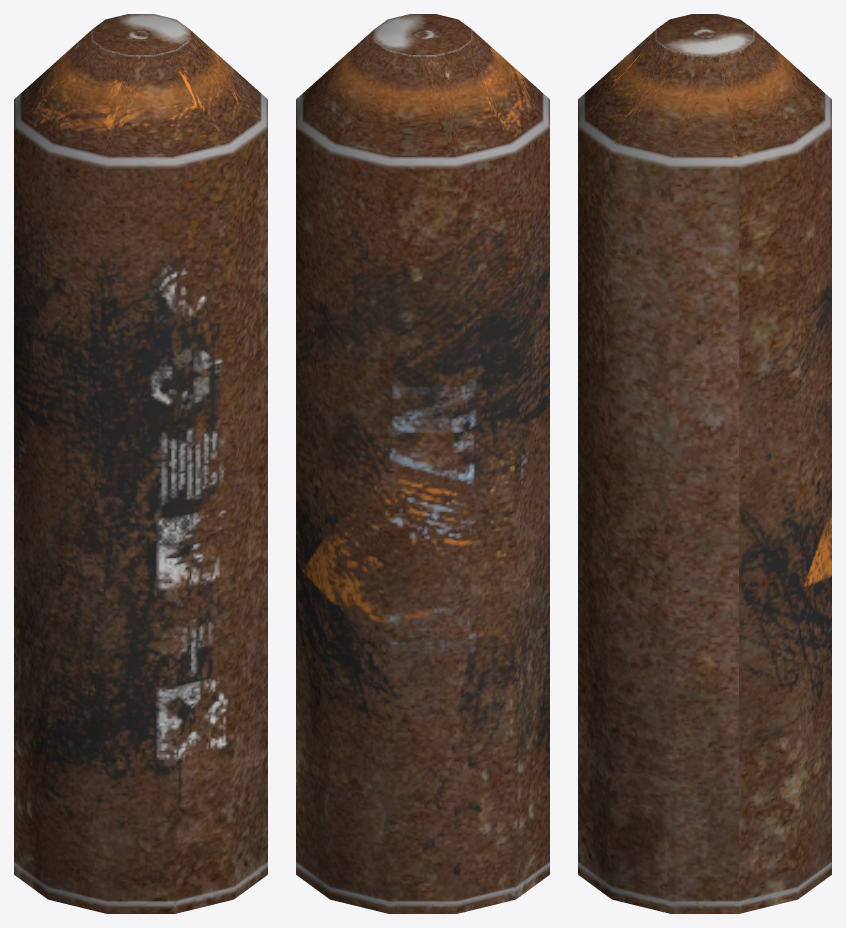
File: SM_TrashCanAluminium_03_A.fbx
3 views of the same model, side by side, from view 1: azimuth 30°, elevation 25°; view 2: azimuth 150°, elevation 25°; view 3: azimuth 270°, elevation 25° (orthographic).
Parts seen in each view (by area): view 1: SM_TrashCanAluminium_03_A; view 2: SM_TrashCanAluminium_03_A; view 3: SM_TrashCanAluminium_03_A.
Part boxes in pixels (x1,y1,x2,y2): SM_TrashCanAluminium_03_A: (14,14,267,913); SM_TrashCanAluminium_03_A: (296,14,549,913); SM_TrashCanAluminium_03_A: (578,14,831,913).
Size of the model in its own units: 8.34 by 8.34 by 29.95.
Materials: 1 (1 with a texture image).
